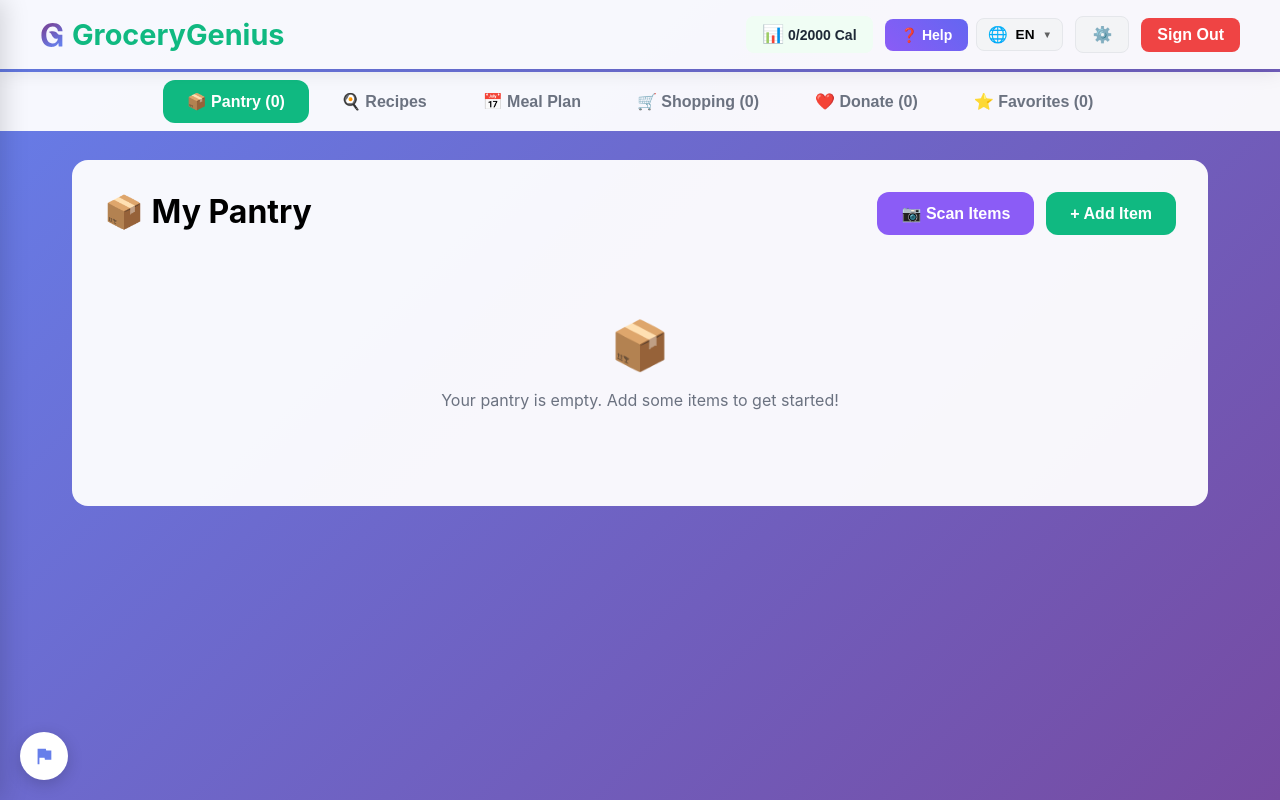
it: Pantry add / delete › adds a manually-entered item to the pantry
Check: the button "📊 0/2000 Cal" is shown, box [746, 16, 873, 53]
Note: Open the add panel.
Click the button "+ Add Item" at {"x": 1111, "y": 214}, box [1046, 192, 1176, 235]
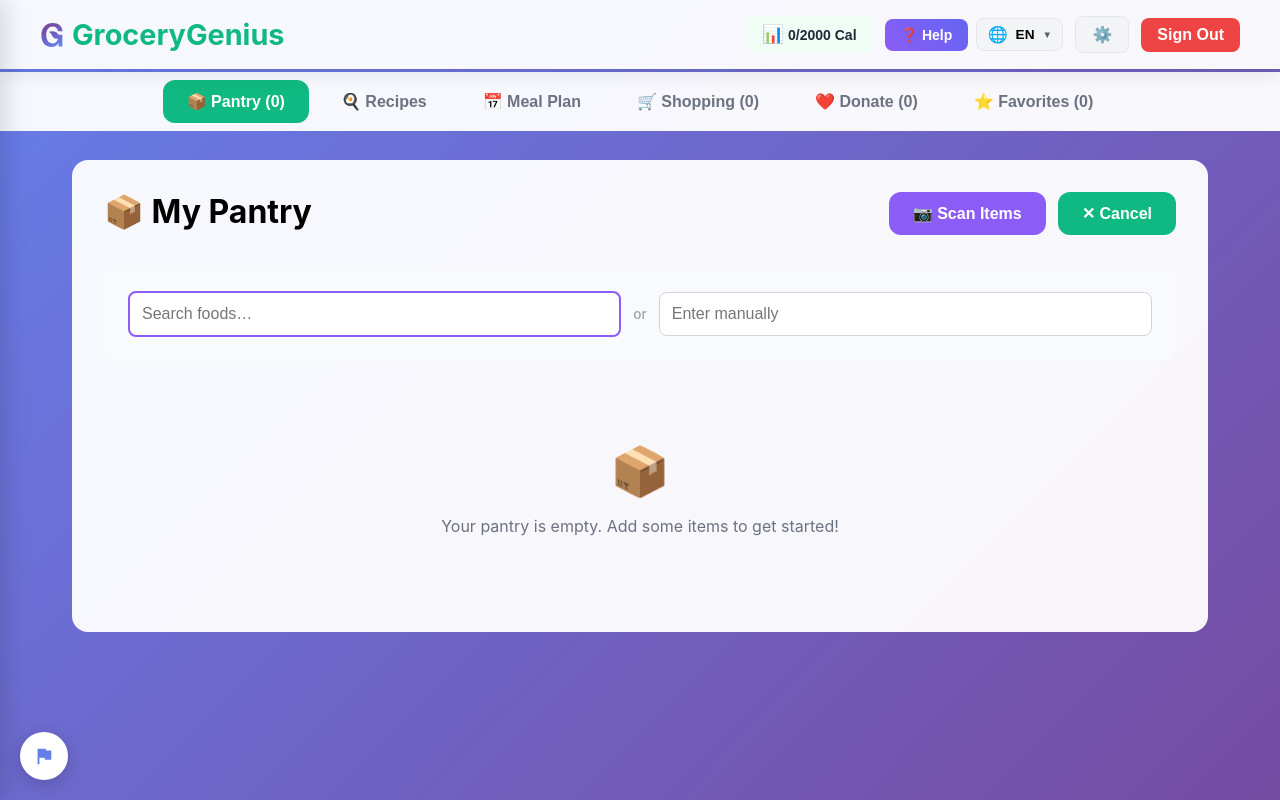
Note: Type a name into the manual-entry box.
Type "Bananas" into the field with placeholder "Enter manually" at {"x": 905, "y": 314}, box [659, 292, 1152, 336]
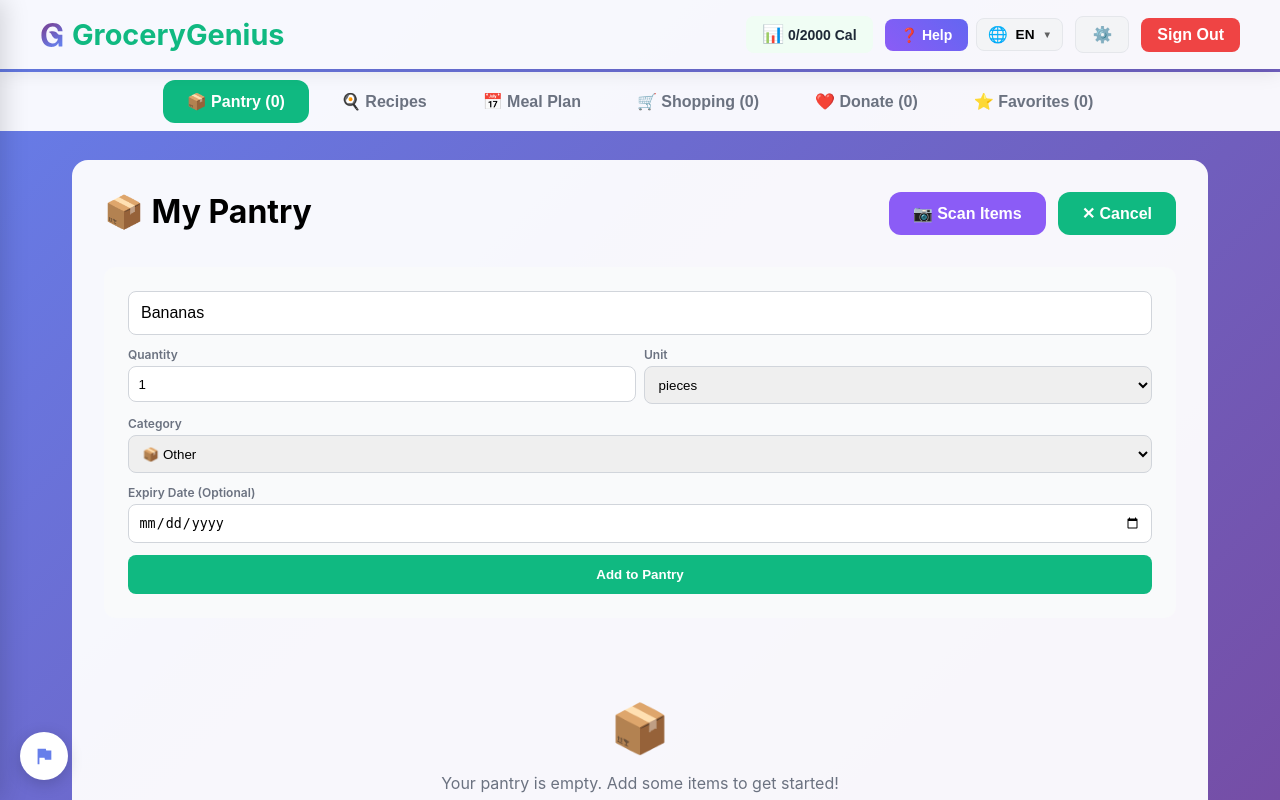
Note: Submit via the manual "Add to Pantry" button.
Click the button "Add to Pantry" at {"x": 640, "y": 574}, box [128, 555, 1152, 594]
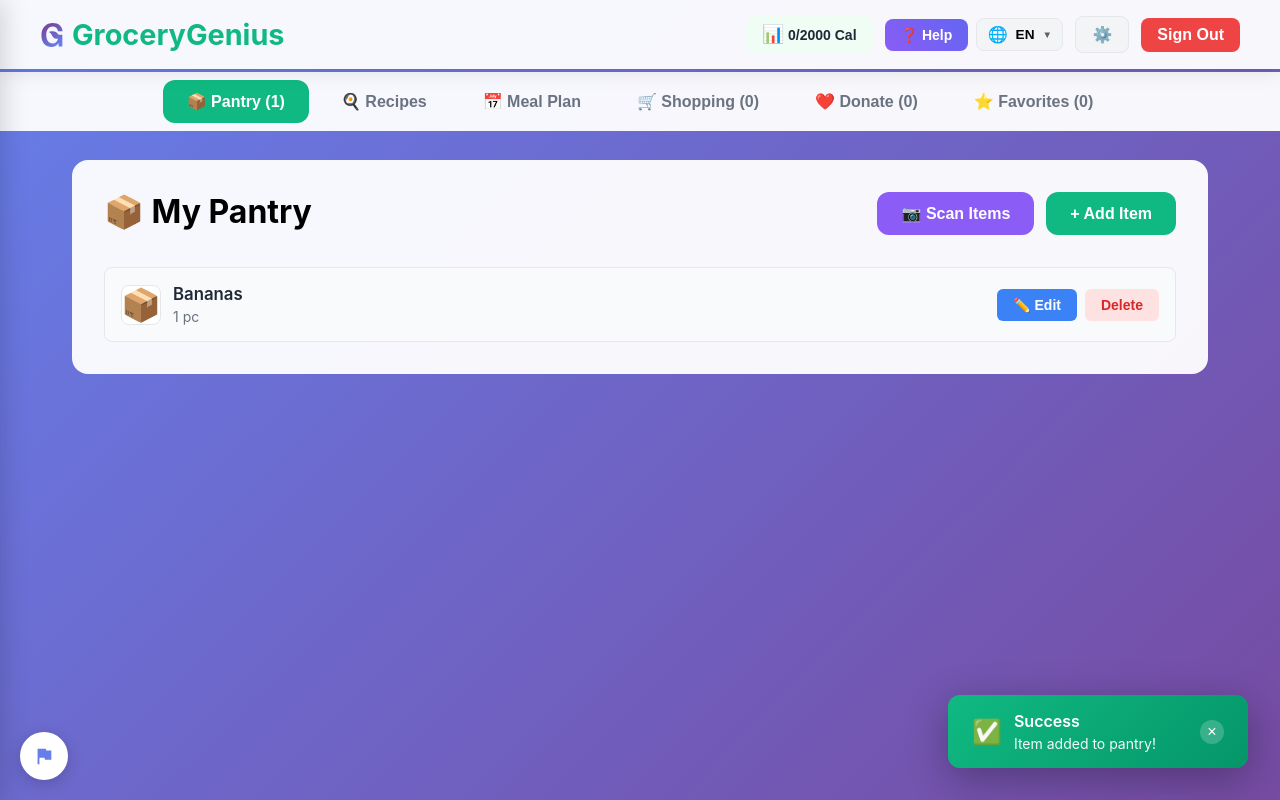
Check: the text "Bananas" is shown, box [173, 284, 243, 304]
